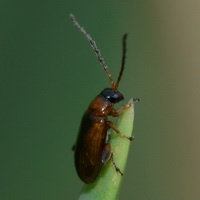insect: (70, 14, 136, 183)
